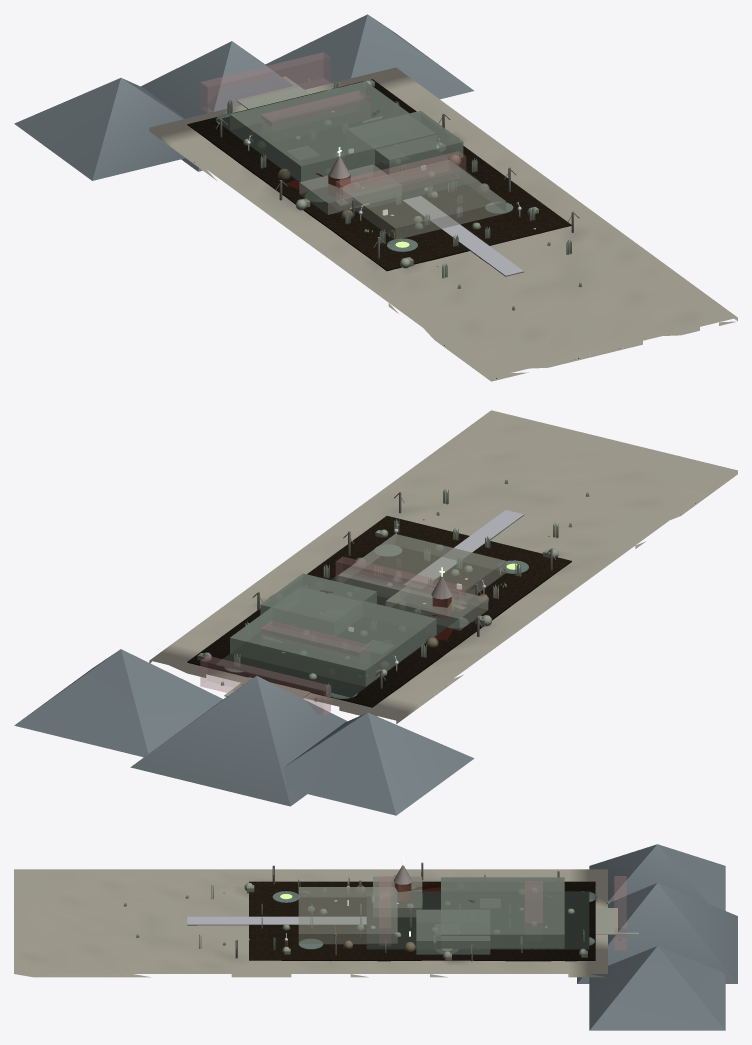
The model's file is slough_of_despond.glb.
The picture shows the model from 3 angles, top to bottom: view 1: azimuth 30°, elevation 25°; view 2: azimuth 150°, elevation 25°; view 3: azimuth 270°, elevation 25°; orthographic projection. The views are drawn at different scales.
Parts seen in each view (by area): view 1: ENV_Slough_Ground, VIS_PROP_Ridge_Moor (×3), ENV_Slough_MudBasin, COL_MudZone_Deep_01, COL_MudZone_Shallow_01, ENV_Slough_DeepBog_WaterSurface, COL_MudZone_Deep_02, TRIGGER_Exit_WicketGate, COL_MudZone_Shallow_02, TRIGGER_PliableLeaves, ENV_Slough_SafeStonePath, TRIGGER_HelpAppears (+1 smaller); view 2: ENV_Slough_Ground, VIS_PROP_Ridge_Moor (×3), ENV_Slough_MudBasin, COL_MudZone_Deep_01, ENV_Slough_DeepBog_WaterSurface, COL_MudZone_Shallow_01, COL_MudZone_Deep_02, TRIGGER_Exit_WicketGate, COL_MudZone_Shallow_02, TRIGGER_PliableLeaves, ENV_Slough_SafeStonePath, TRIGGER_HelpAppears; view 3: ENV_Slough_Ground, VIS_PROP_Ridge_Moor (×3), ENV_Slough_MudBasin, ENV_Slough_DeepBog_WaterSurface, COL_MudZone_Deep_01, COL_MudZone_Shallow_01, COL_MudZone_Deep_02, COL_MudZone_Shallow_02, ENV_Slough_SafeStonePath, TRIGGER_Exit_WicketGate, TRIGGER_PliableLeaves, TRIGGER_HelpAppears (+1 smaller).
Part boxes in pixels (bbox=[...]): ENV_Slough_Ground: bbox=[149, 67, 737, 381]; VIS_PROP_Ridge_Moor (×3): bbox=[14, 14, 474, 180]; ENV_Slough_MudBasin: bbox=[187, 79, 571, 271]; COL_MudZone_Deep_01: bbox=[230, 81, 436, 181]; COL_MudZone_Shallow_01: bbox=[340, 160, 506, 239]; ENV_Slough_DeepBog_WaterSurface: bbox=[215, 101, 479, 212]; COL_MudZone_Deep_02: bbox=[347, 110, 463, 174]; TRIGGER_Exit_WicketGate: bbox=[200, 52, 330, 112]; COL_MudZone_Shallow_02: bbox=[299, 164, 401, 214]; TRIGGER_PliableLeaves: bbox=[336, 151, 465, 200]; ENV_Slough_SafeStonePath: bbox=[403, 196, 524, 276]; TRIGGER_HelpAppears: bbox=[261, 90, 369, 126]; ENV_Slough_Ground: bbox=[149, 410, 737, 723]; VIS_PROP_Ridge_Moor (×3): bbox=[14, 649, 474, 815]; ENV_Slough_MudBasin: bbox=[187, 516, 571, 707]; COL_MudZone_Deep_01: bbox=[230, 585, 436, 686]; ENV_Slough_DeepBog_WaterSurface: bbox=[215, 570, 478, 697]; COL_MudZone_Shallow_01: bbox=[338, 534, 506, 610]; COL_MudZone_Deep_02: bbox=[260, 573, 376, 635]; TRIGGER_Exit_WicketGate: bbox=[200, 656, 330, 716]; COL_MudZone_Shallow_02: bbox=[385, 583, 488, 630]; TRIGGER_PliableLeaves: bbox=[336, 557, 465, 606]; ENV_Slough_SafeStonePath: bbox=[404, 510, 524, 585]; TRIGGER_HelpAppears: bbox=[261, 621, 369, 656]; ENV_Slough_Ground: bbox=[14, 869, 607, 977]; VIS_PROP_Ridge_Moor (×3): bbox=[577, 844, 737, 1030]; ENV_Slough_MudBasin: bbox=[249, 881, 595, 961]; ENV_Slough_DeepBog_WaterSurface: bbox=[366, 891, 589, 949]; COL_MudZone_Deep_01: bbox=[441, 877, 564, 949]; COL_MudZone_Shallow_01: bbox=[298, 887, 397, 944]; COL_MudZone_Deep_02: bbox=[416, 909, 490, 954]; COL_MudZone_Shallow_02: bbox=[373, 876, 422, 917]; ENV_Slough_SafeStonePath: bbox=[187, 916, 366, 925]; TRIGGER_Exit_WicketGate: bbox=[614, 876, 626, 950]; TRIGGER_PliableLeaves: bbox=[379, 876, 390, 945]; TRIGGER_HelpAppears: bbox=[525, 881, 542, 926].
Bounding box in the file's own units: 62 × 13.61 × 117.
63 materials, 4 textured.
